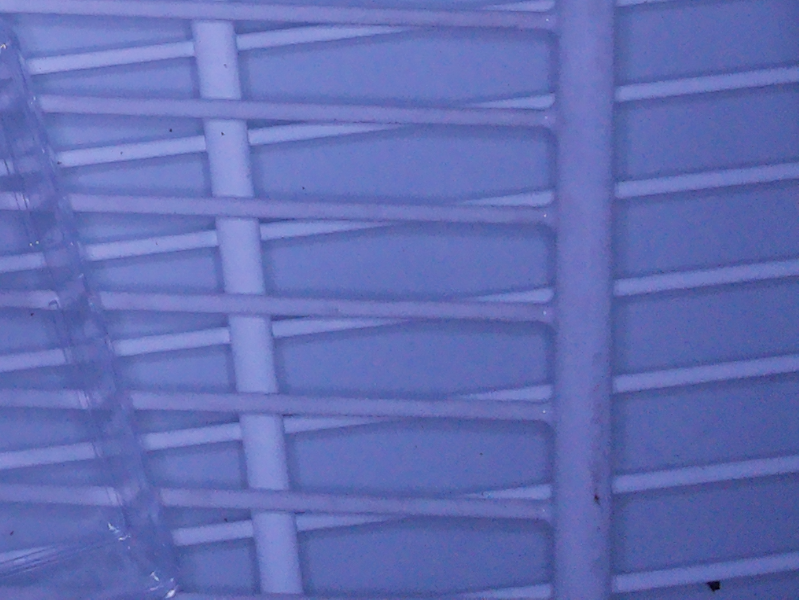plate: (1, 24, 186, 600)
